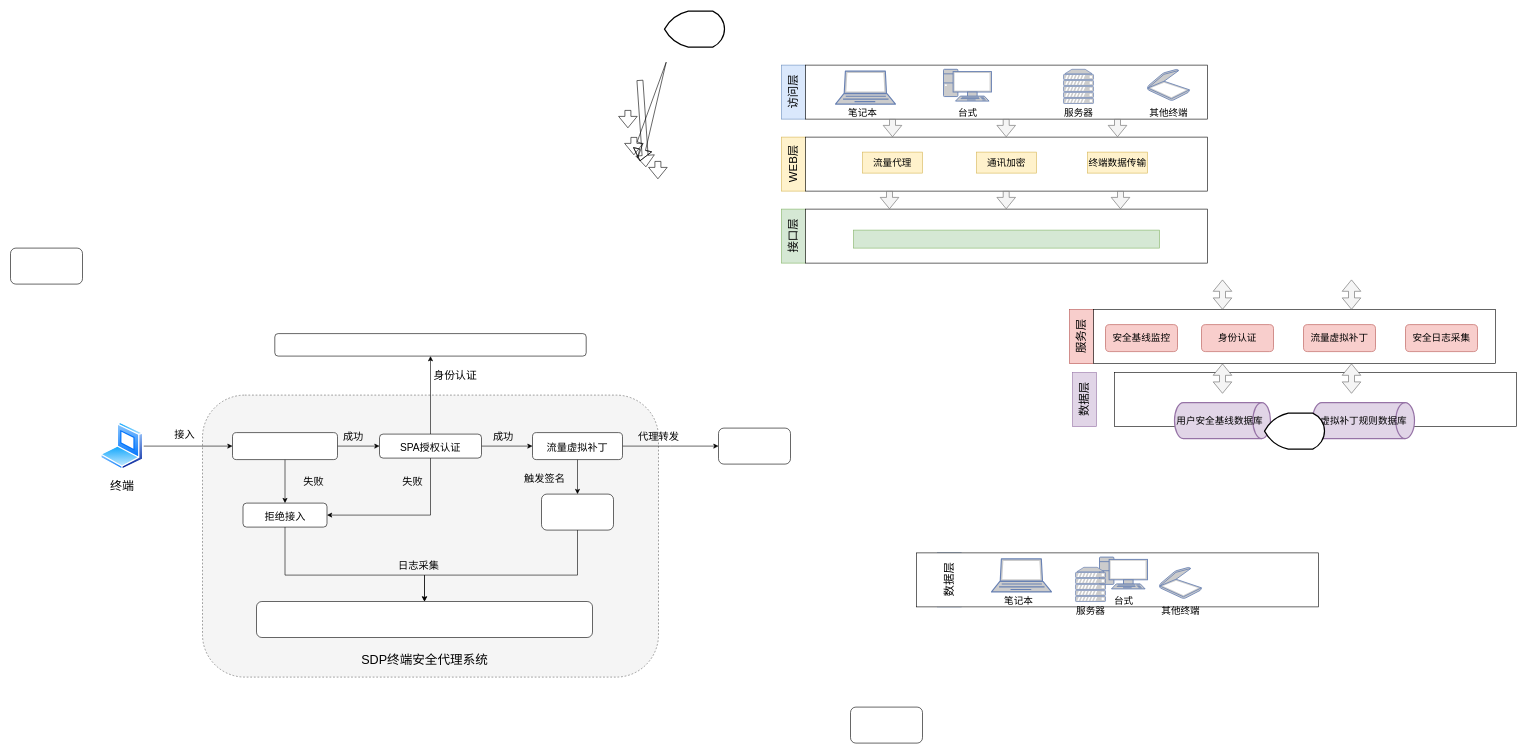
Image size: 1527x754. Some labels were removed from this diagram. Each missing label, with the centre of its shape:
API Gateway: [1006,239]
SDP控制器/SDP网关: [430,344]
SDP网关: [754,446]
安全基线采集和评估: [285,446]
安全日志: [424,619]
重定向、限流、阻断: [577,512]
